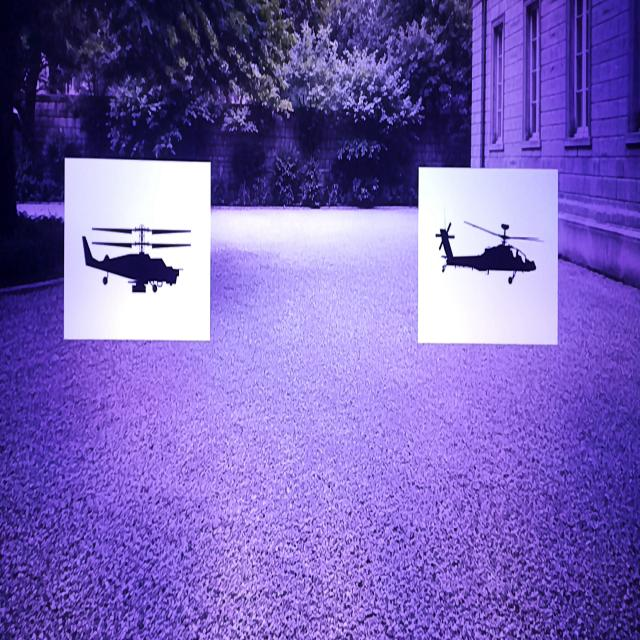Apache friendly: (436, 222, 542, 283)
Ka-52 Enemy: (83, 225, 190, 292)
